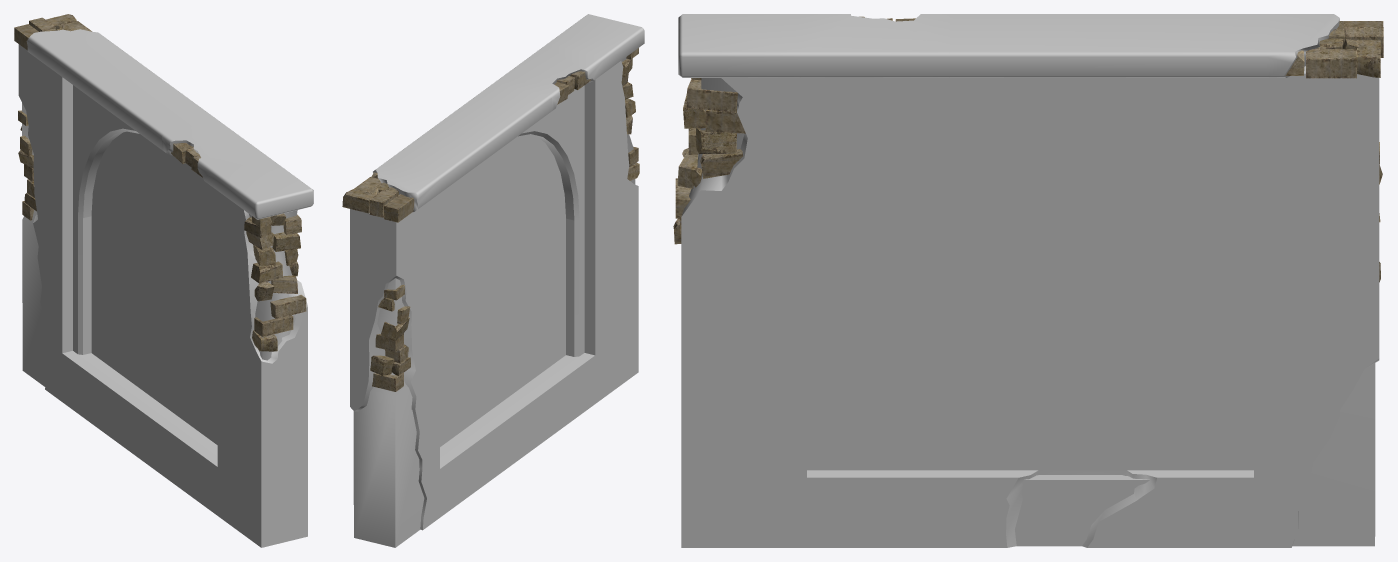
The model's file is Wall1_el2.fbx.
3 views of the same model, side by side, from view 1: azimuth 30°, elevation 25°; view 2: azimuth 150°, elevation 25°; view 3: azimuth 270°, elevation 25° (orthographic). The views are drawn at different scales.
Parts seen in each view (by area): view 1: polySurface204; view 2: polySurface204; view 3: polySurface204.
Part boxes in pixels (bbox=[...]): polySurface204: bbox=[14, 14, 313, 547]; polySurface204: bbox=[342, 14, 644, 547]; polySurface204: bbox=[673, 14, 1383, 547].
Size of the model in its own units: 0.5699 by 3.16 by 4.07.
